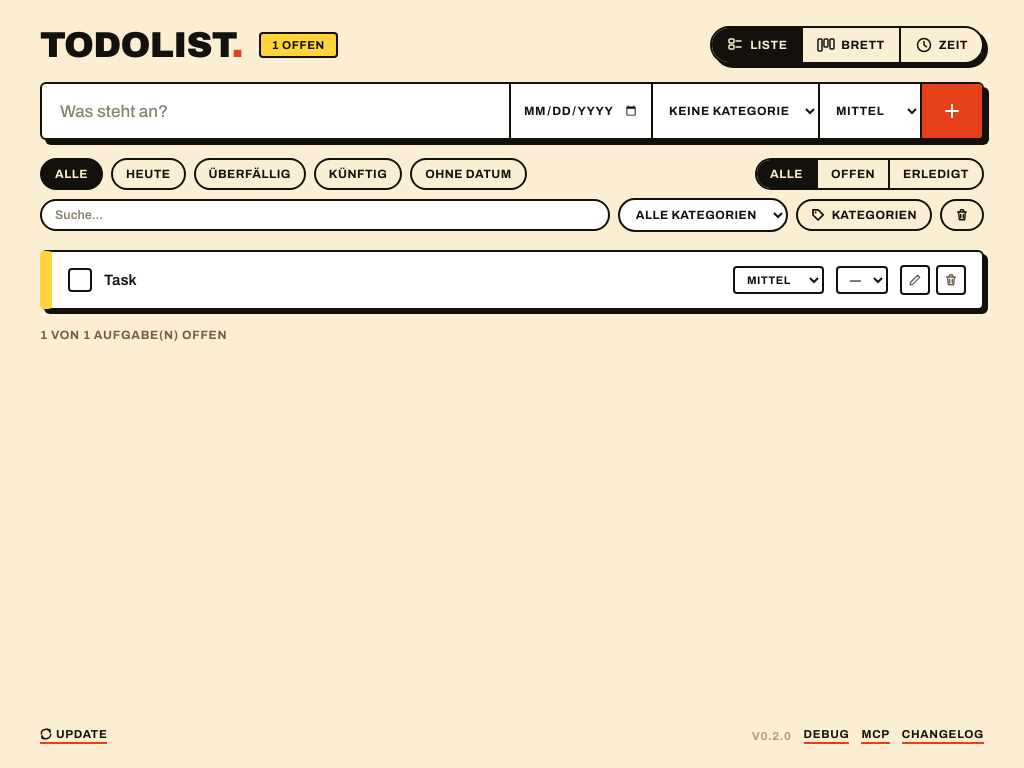
App › toggles to kanban view
This screenshot has width=1024, height=768.
Expected: the text "Task" is shown, [104, 272, 137, 288]
Click the button with aria-label "Zur Ansicht Brett wechseln": [850, 45] box [801, 28, 899, 62]
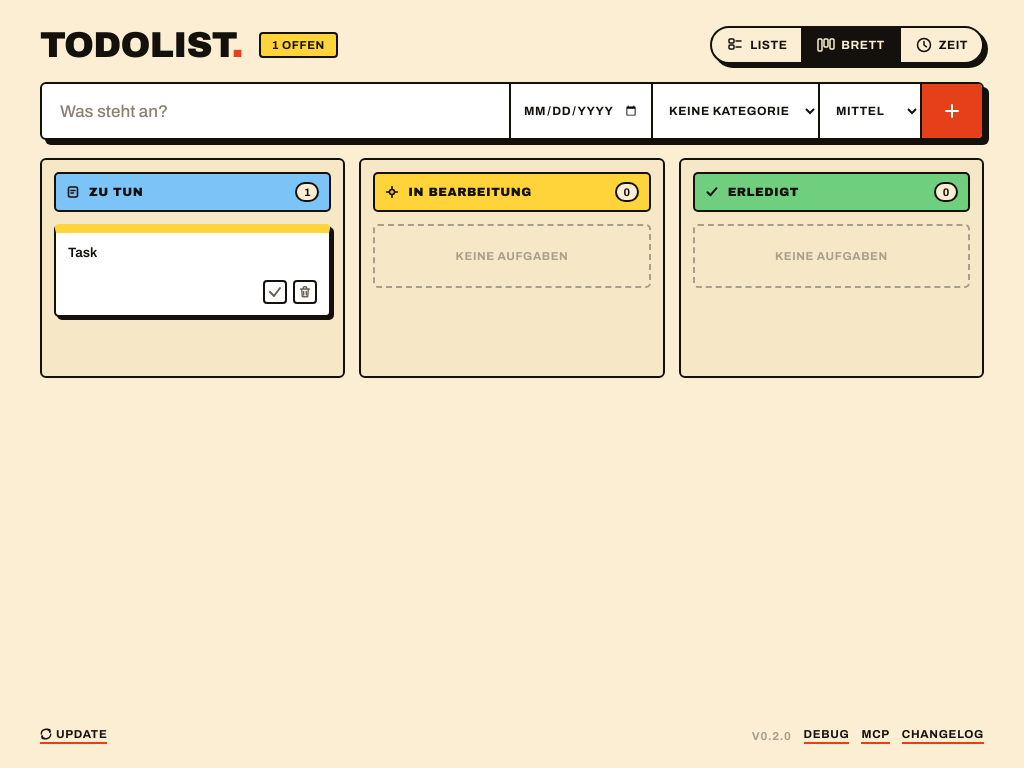
Expected: the heading "Erledigt" is shown, [728, 185, 799, 199]
Expected: the heading "Zu tun" is shown, [89, 185, 143, 199]
Expected: the heading "In Bearbeitung" is shown, [408, 185, 532, 199]
